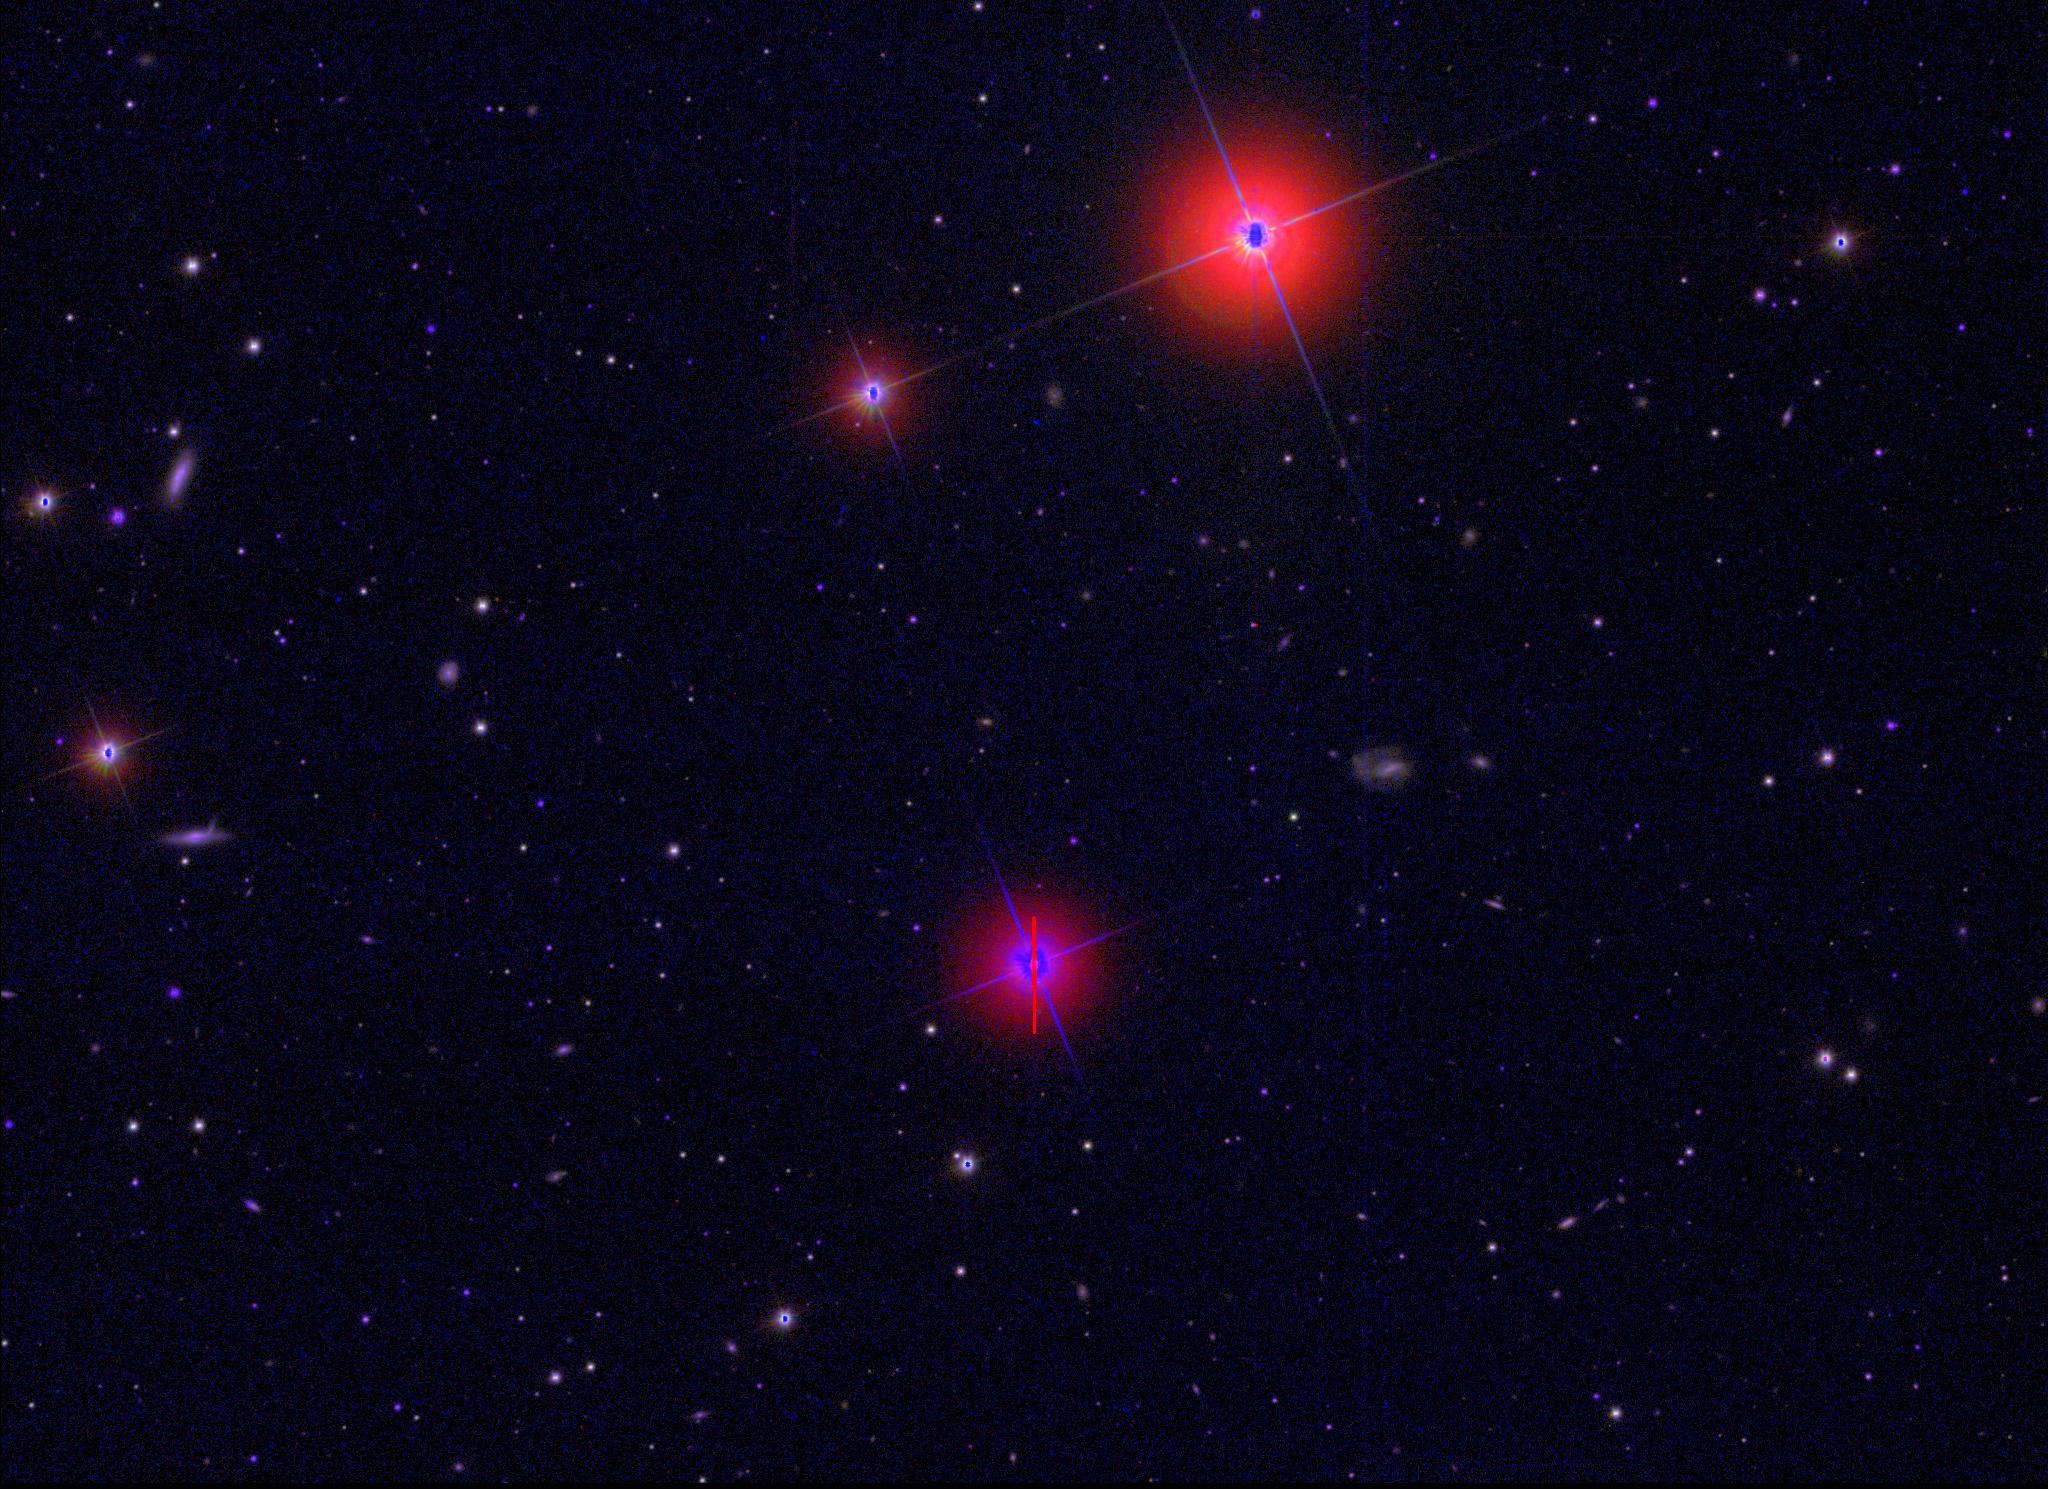L: (1956, 185, 1970, 199)
